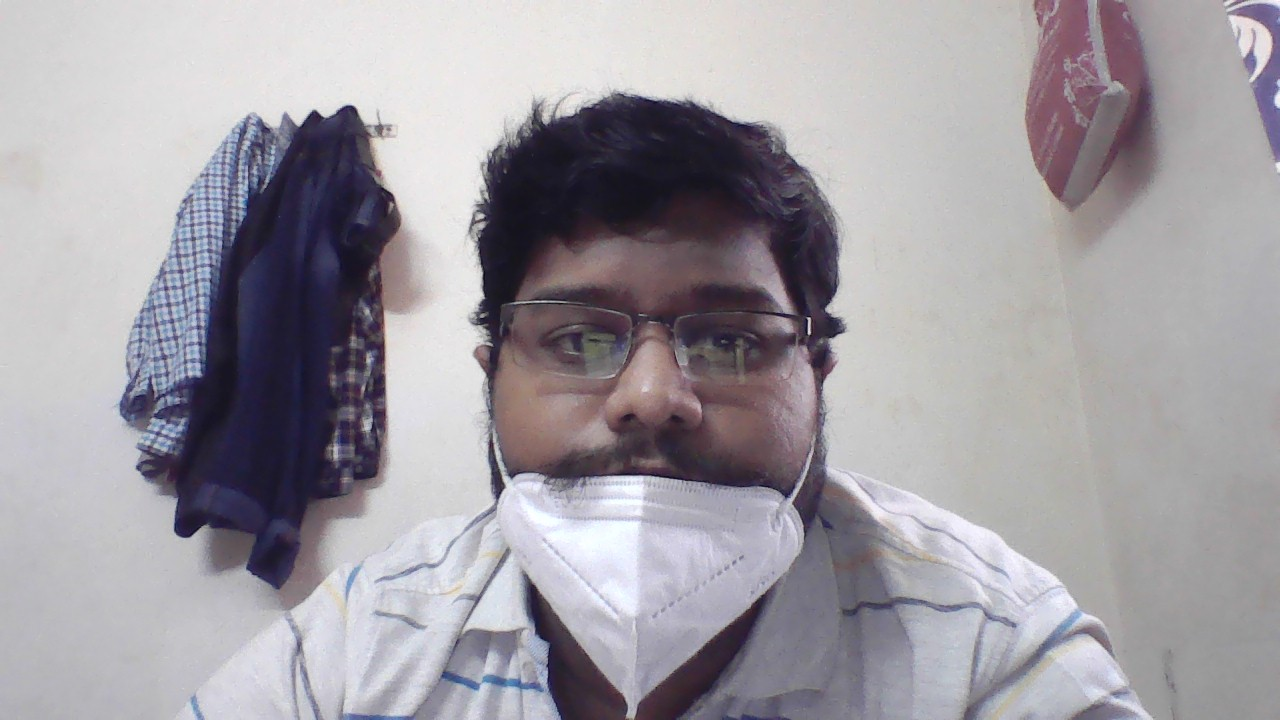NoMask: (470, 335, 846, 553)
